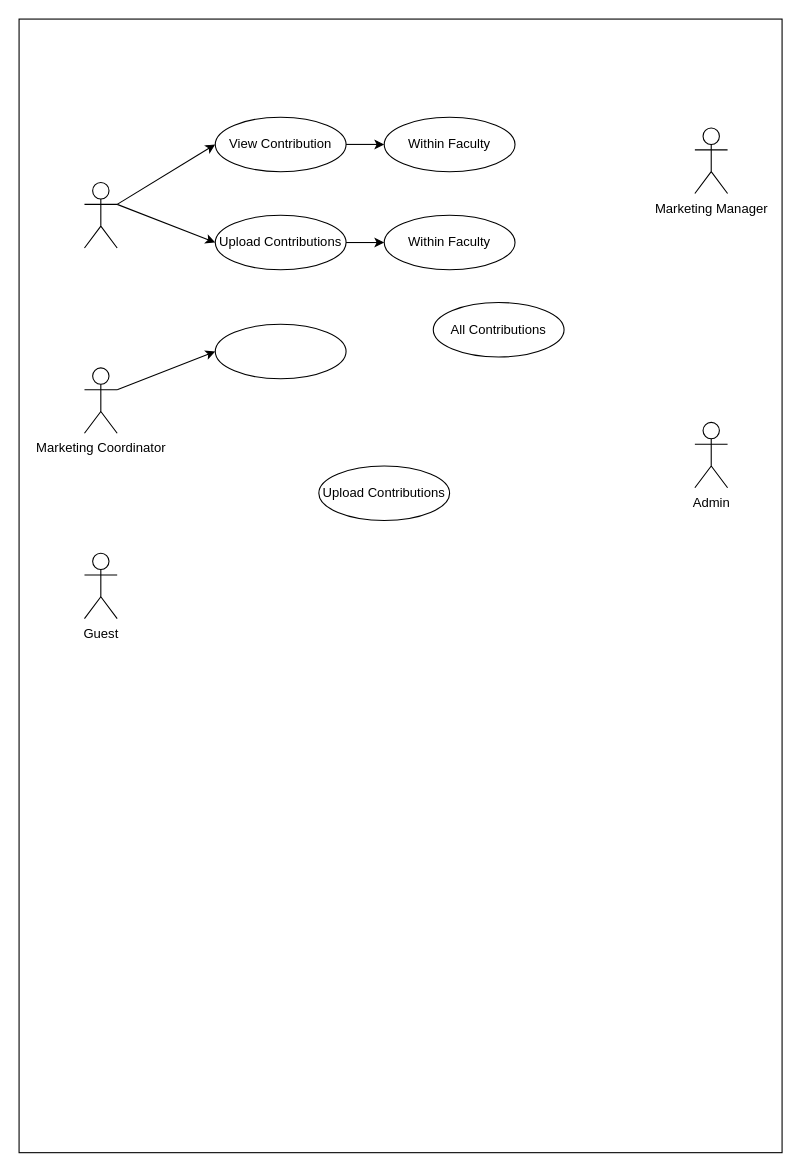
The diagram is 801 pixels wide and 1172 high, and some of its shapes have lost their labels. The shapes that lost their labels are listed below. From the top down, each one's centre as x and y in pixels, then its label:
(x=100, y=214): Student
(x=280, y=351): Provide Feedback
